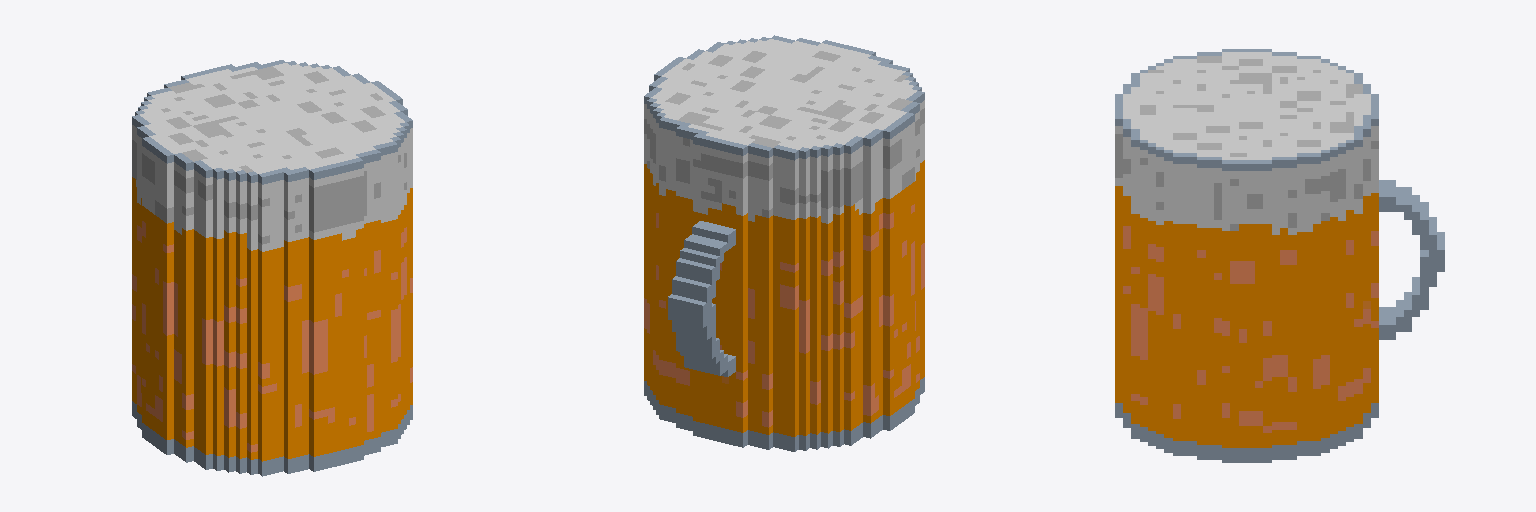
3 views of the same model, side by side, from view 1: azimuth 30°, elevation 25°; view 2: azimuth 150°, elevation 25°; view 3: azimuth 270°, elevation 25° (orthographic).
Visible parts, largest first — view 1: object 1; view 2: object 1; view 3: object 1.
Part boxes in pixels (x1,y1,x2,y2): object 1: (132, 60, 412, 476); object 1: (644, 35, 924, 451); object 1: (1115, 49, 1444, 462).
Bounding box in the file's own units: 3.3 × 4 × 4.
Materials: 1 (1 with a texture image).